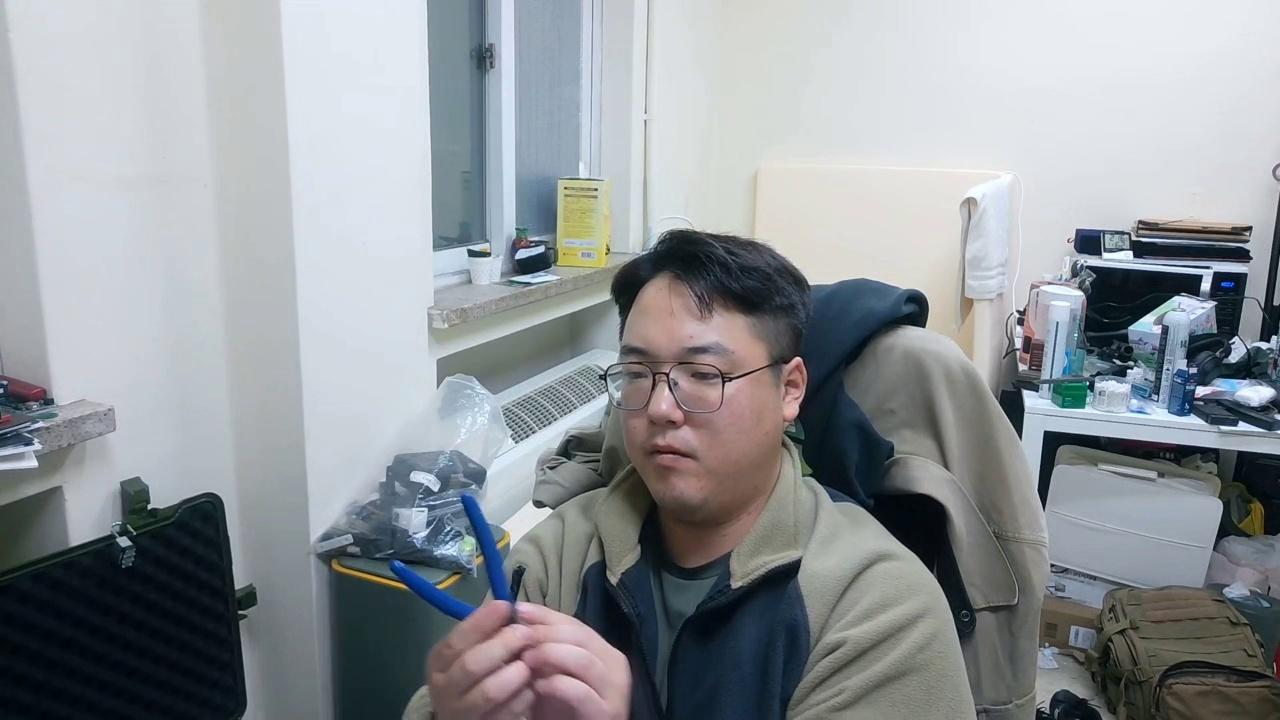blue_pliers: (388, 491, 527, 629)
